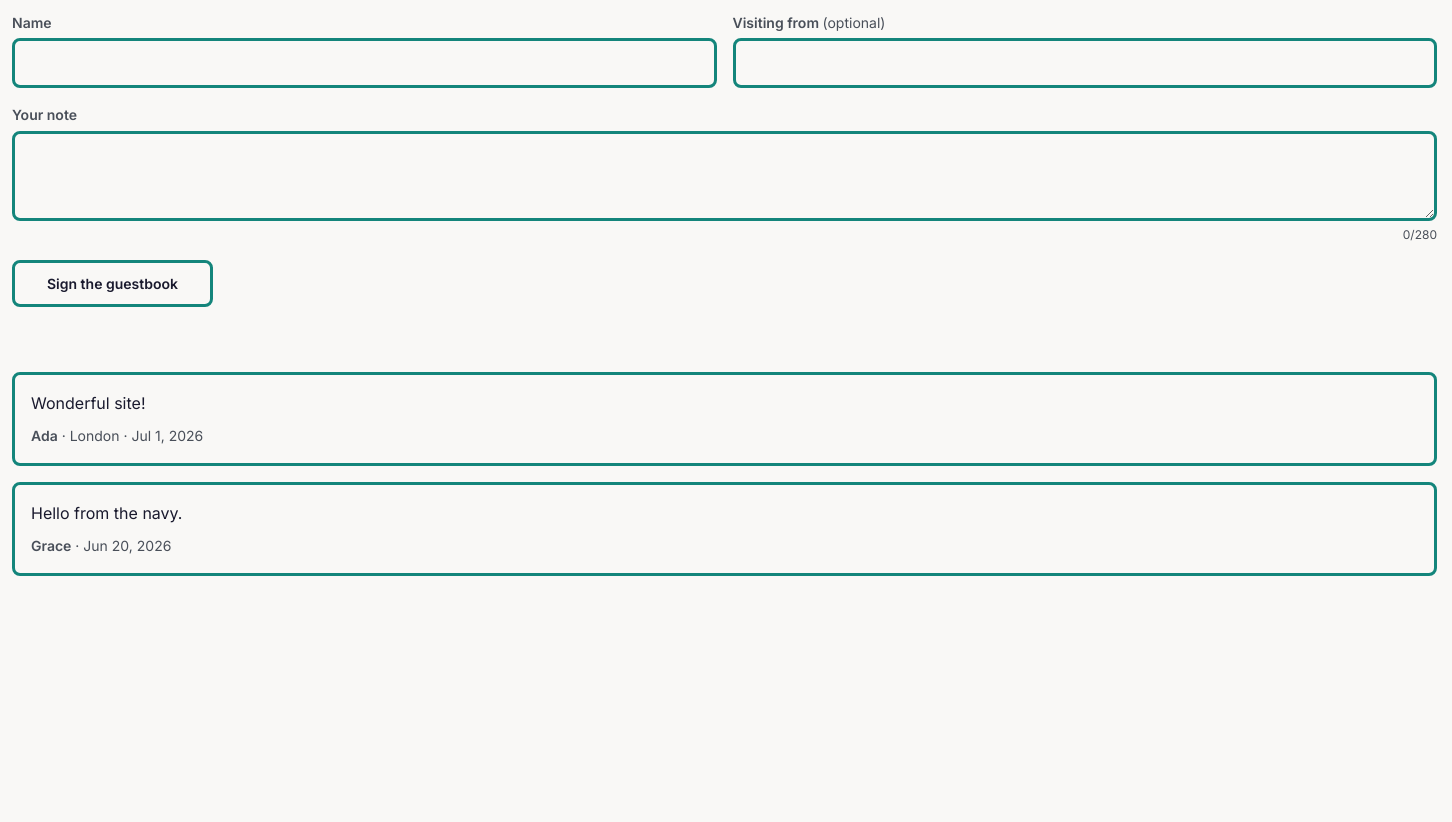
Test: Guestbook › surfaces server rejection messages
The image size is (1452, 822).
Expected: the text "Wonderful site!" is shown, x1=31 y1=393 x2=146 y2=413
Type "Paula Fan" into the field labelled "Name" at (364, 63), box x1=12 y1=38 x2=716 y2=88
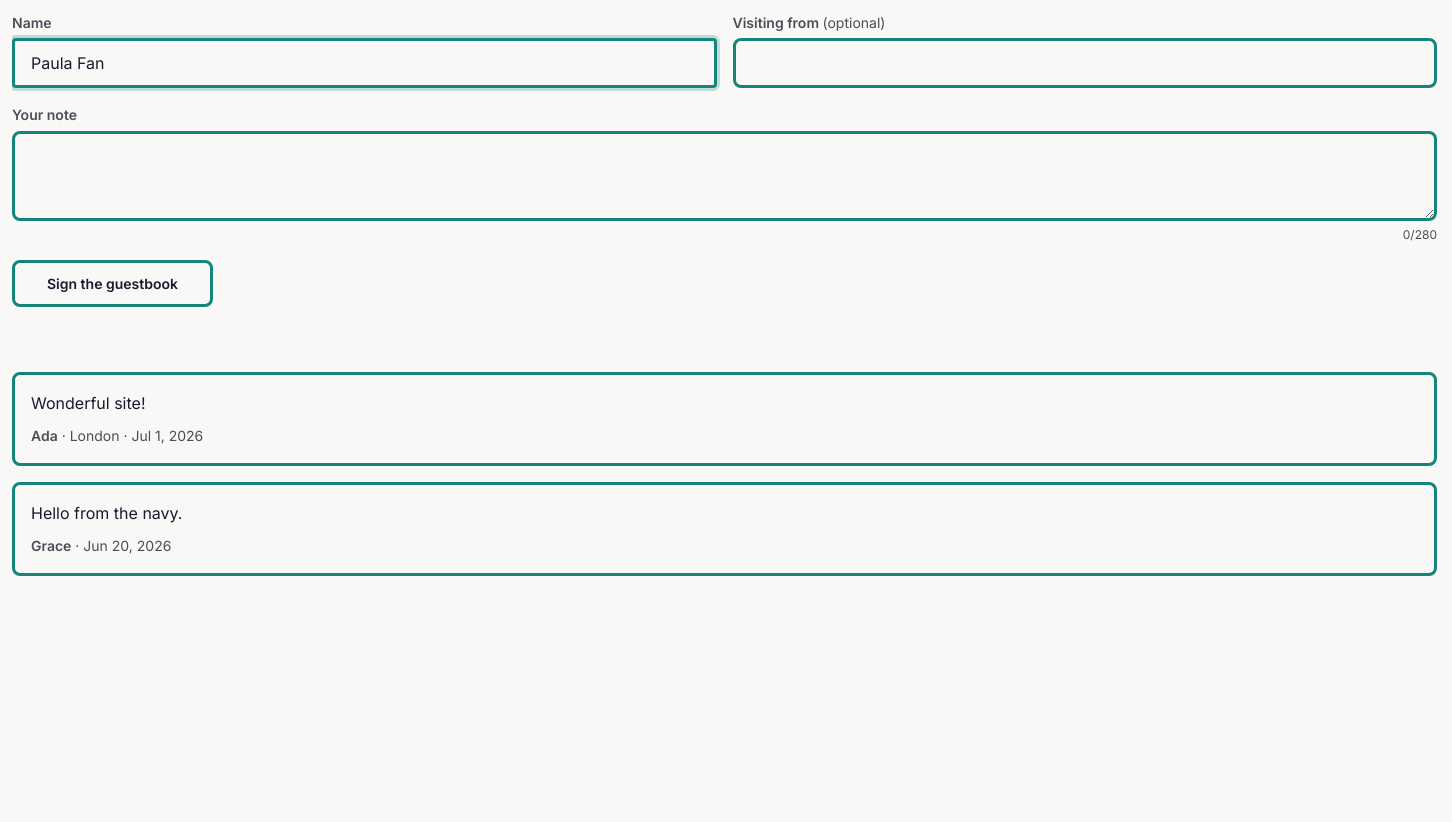
Type "Really enjoyed the writing here." into the text box labelled "Your note" at (724, 176), box x1=12 y1=131 x2=1437 y2=221
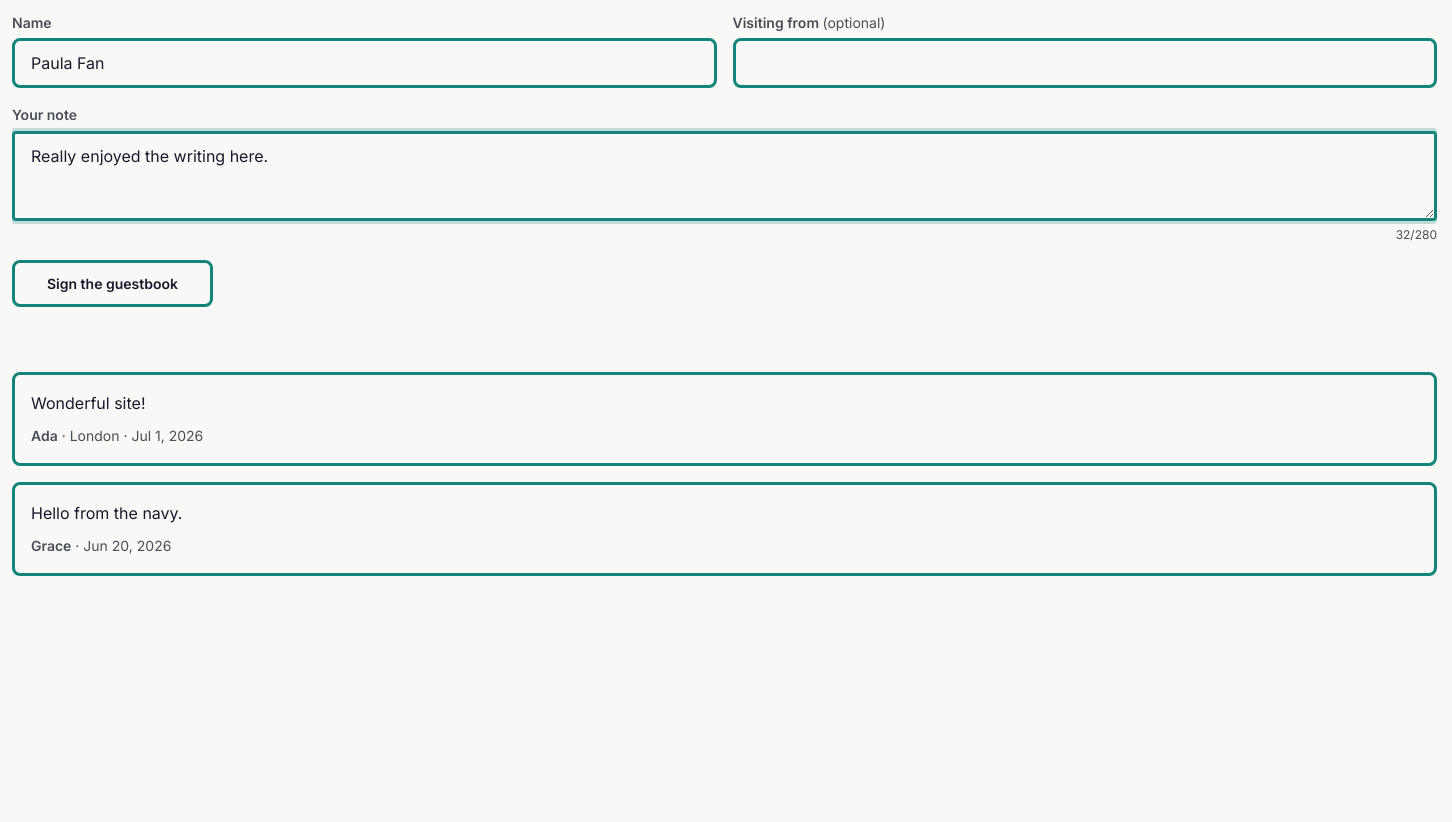
Click the button "Sign the guestbook" at (112, 284), box x1=12 y1=260 x2=213 y2=307
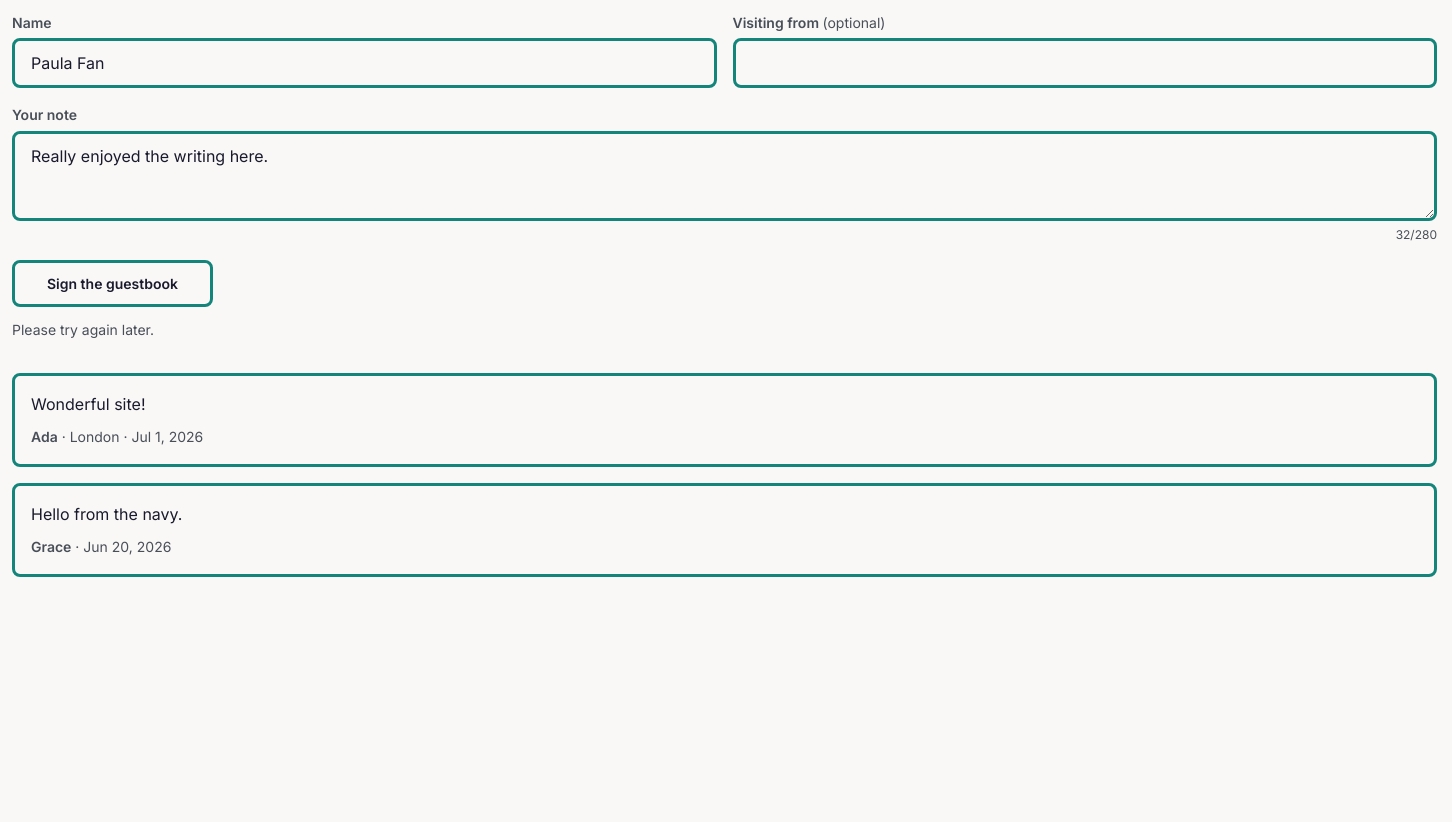
Now the text "Please try again later." is shown, box x1=12 y1=321 x2=154 y2=338
